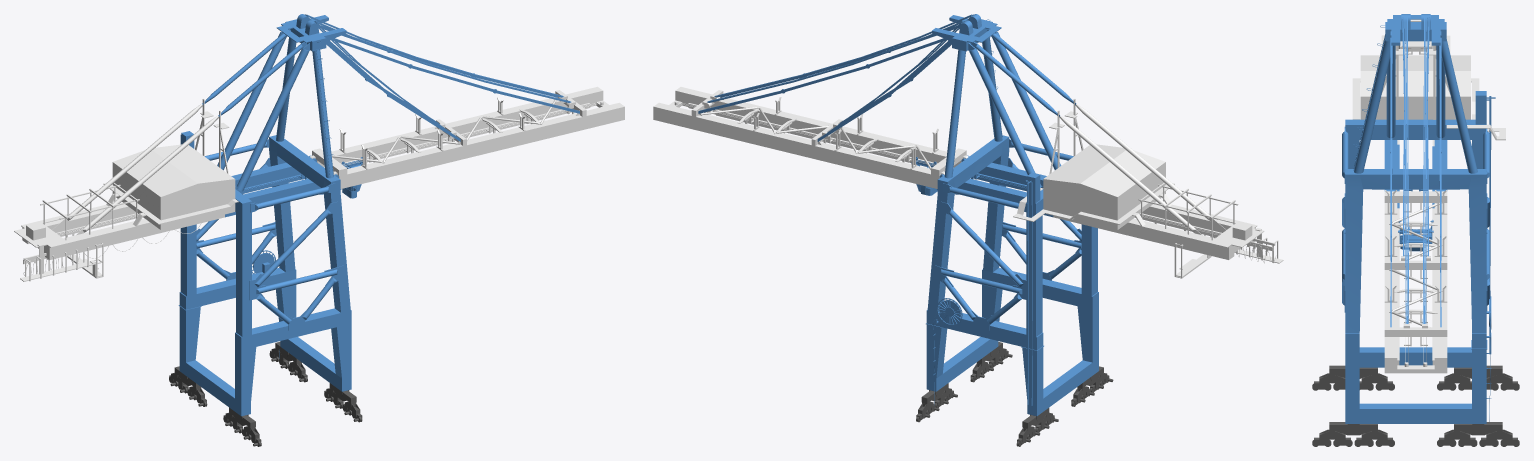
The model's file is GantryCraneBig.fbx.
3 renders of one model, left to right at view 1: azimuth 30°, elevation 25°; view 2: azimuth 150°, elevation 25°; view 3: azimuth 270°, elevation 25°, orthographic. The views are drawn at different scales.
Parts seen in each view (by area): view 1: GantryCrane_01_StructureCenter_01_Prefab, GantryCrane_01_StructureFront_01_Prefab, GantryCrane_01_StructureBottom_01_Prefab, GantryCrane_01_StructureBack_01_Prefab, GantryCrane_01_Office_01_Prefab, GantryCrane_01_StructureTop_01_Prefab, GantryCrane_01_HingeCablesFront_01_Prefab, GantryCrane_01_Traction_01_Prefab__3_, GantryCrane_01_Traction_01_Prefab__1_, GantryCrane_01_Traction_01_Prefab, GantryCrane_01_Traction_01_Prefab__2_; view 2: GantryCrane_01_StructureCenter_01_Prefab, GantryCrane_01_StructureFront_01_Prefab, GantryCrane_01_StructureBottom_01_Prefab, GantryCrane_01_StructureBack_01_Prefab, GantryCrane_01_Office_01_Prefab, GantryCrane_01_StructureTop_01_Prefab, GantryCrane_01_HingeCablesFront_01_Prefab, GantryCrane_01_Traction_01_Prefab, GantryCrane_01_Traction_01_Prefab__2_, GantryCrane_01_Traction_01_Prefab__3_, GantryCrane_01_Traction_01_Prefab__1_; view 3: GantryCrane_01_StructureCenter_01_Prefab, GantryCrane_01_StructureFront_01_Prefab, GantryCrane_01_StructureBottom_01_Prefab, GantryCrane_01_StructureTop_01_Prefab, GantryCrane_01_Office_01_Prefab, GantryCrane_01_HingeCablesFront_01_Prefab, GantryCrane_01_Traction_01_Prefab__2_, GantryCrane_01_Traction_01_Prefab__3_, GantryCrane_01_Traction_01_Prefab__1_, GantryCrane_01_Traction_01_Prefab, GantryCrane_01_StructureBack_01_Prefab, GantryCrane_01_Cabin_01_Prefab.
Boxes of the visible parts, x1,y1,x2,y2 form: GantryCrane_01_StructureCenter_01_Prefab: (180,131,350,336); GantryCrane_01_StructureFront_01_Prefab: (310,86,624,188); GantryCrane_01_StructureBottom_01_Prefab: (178,250,351,416); GantryCrane_01_StructureBack_01_Prefab: (14,98,229,281); GantryCrane_01_Office_01_Prefab: (103,144,238,229); GantryCrane_01_StructureTop_01_Prefab: (202,14,346,192); GantryCrane_01_HingeCablesFront_01_Prefab: (305,14,579,141); GantryCrane_01_Traction_01_Prefab__3_: (324,383,362,422); GantryCrane_01_Traction_01_Prefab__1_: (223,407,261,446); GantryCrane_01_Traction_01_Prefab: (169,366,207,406); GantryCrane_01_Traction_01_Prefab__2_: (269,342,307,382); GantryCrane_01_StructureCenter_01_Prefab: (927,135,1097,345); GantryCrane_01_StructureFront_01_Prefab: (653,87,968,188); GantryCrane_01_StructureBottom_01_Prefab: (926,268,1098,416); GantryCrane_01_StructureBack_01_Prefab: (1049,99,1283,278); GantryCrane_01_Office_01_Prefab: (1013,144,1174,229); GantryCrane_01_StructureTop_01_Prefab: (932,14,1076,188); GantryCrane_01_HingeCablesFront_01_Prefab: (698,14,973,141); GantryCrane_01_Traction_01_Prefab: (1016,408,1058,446); GantryCrane_01_Traction_01_Prefab__2_: (916,383,957,422); GantryCrane_01_Traction_01_Prefab__3_: (970,342,1012,382); GantryCrane_01_Traction_01_Prefab__1_: (1071,366,1113,406); GantryCrane_01_StructureCenter_01_Prefab: (1342,91,1495,332); GantryCrane_01_StructureFront_01_Prefab: (1384,190,1447,373); GantryCrane_01_StructureBottom_01_Prefab: (1345,286,1491,423); GantryCrane_01_StructureTop_01_Prefab: (1353,14,1477,173); GantryCrane_01_Office_01_Prefab: (1352,55,1505,140); GantryCrane_01_HingeCablesFront_01_Prefab: (1390,16,1441,327); GantryCrane_01_Traction_01_Prefab__2_: (1437,422,1519,446); GantryCrane_01_Traction_01_Prefab__3_: (1312,422,1394,446); GantryCrane_01_Traction_01_Prefab__1_: (1312,365,1394,390); GantryCrane_01_Traction_01_Prefab: (1437,365,1519,390); GantryCrane_01_StructureBack_01_Prefab: (1381,20,1450,146); GantryCrane_01_Cabin_01_Prefab: (1398,220,1433,251).
Bounding box in the file's own units: 9561 × 5664 × 2495.
